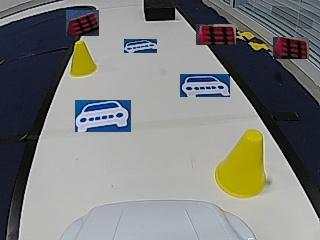block: (143, 0, 175, 21)
cone: (217, 130, 266, 198), (70, 42, 97, 76)
